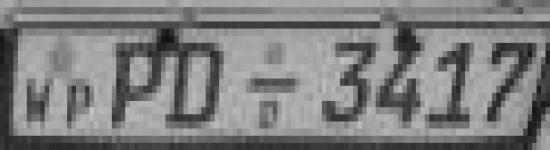-: (245, 69, 305, 102)
1: (427, 35, 475, 136)
3: (322, 34, 376, 131)
4: (376, 33, 425, 128)
7: (476, 36, 537, 132)
D: (166, 34, 228, 134)
P: (107, 34, 165, 131), (61, 74, 98, 130)
W: (24, 73, 54, 136)
